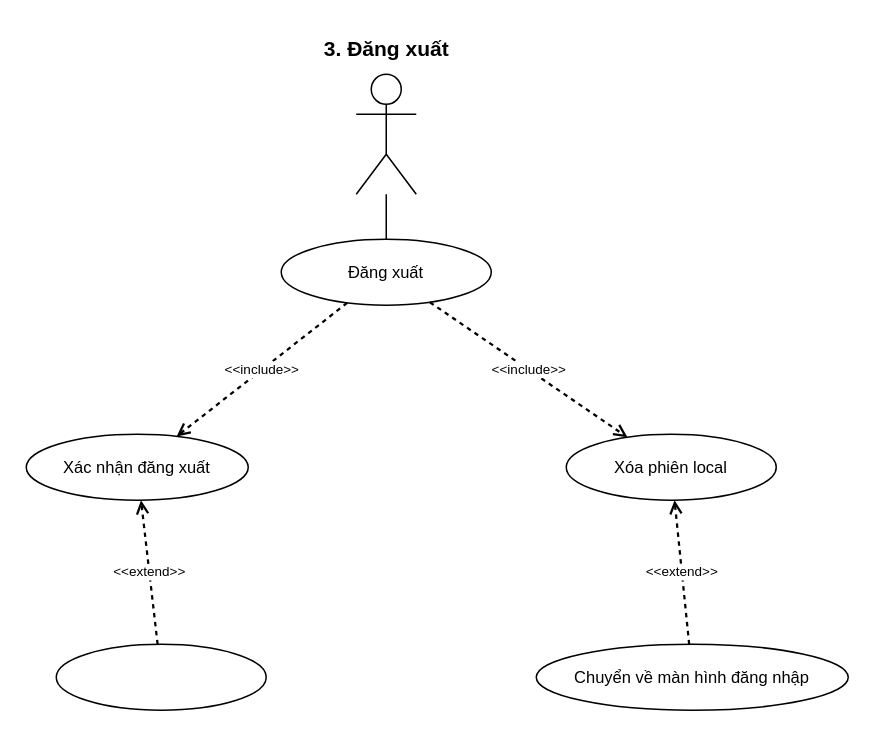
This 875x737 diagram has some shape labels left out. The box of each missing label's shape, as (x1, y1, x2, y2) in pixels:
Hủy đăng xuất: (55, 643, 266, 710)
Người dùng: (355, 73, 416, 194)
